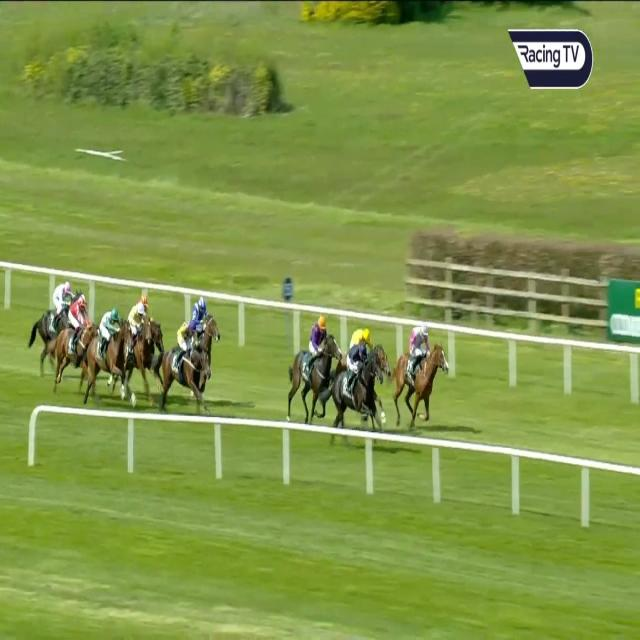horses-racing: (394, 324, 453, 418), (291, 317, 342, 420), (162, 321, 216, 405), (58, 294, 99, 374), (90, 306, 125, 399), (35, 282, 83, 347), (344, 340, 380, 426), (349, 321, 392, 377), (127, 304, 154, 389), (189, 292, 221, 346), (141, 295, 152, 314)
